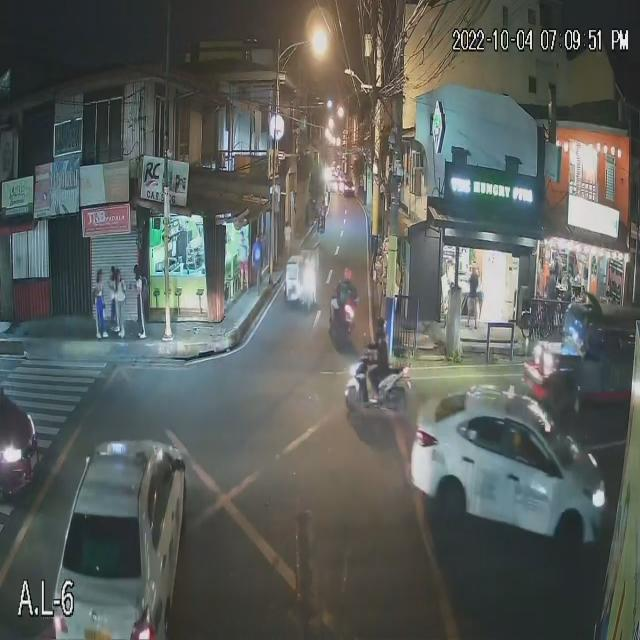helmet: (373, 317, 388, 336), (343, 267, 353, 280)
motorcycle: (343, 359, 414, 417), (328, 297, 359, 352)
rider: (363, 338, 389, 406), (337, 281, 359, 326)
